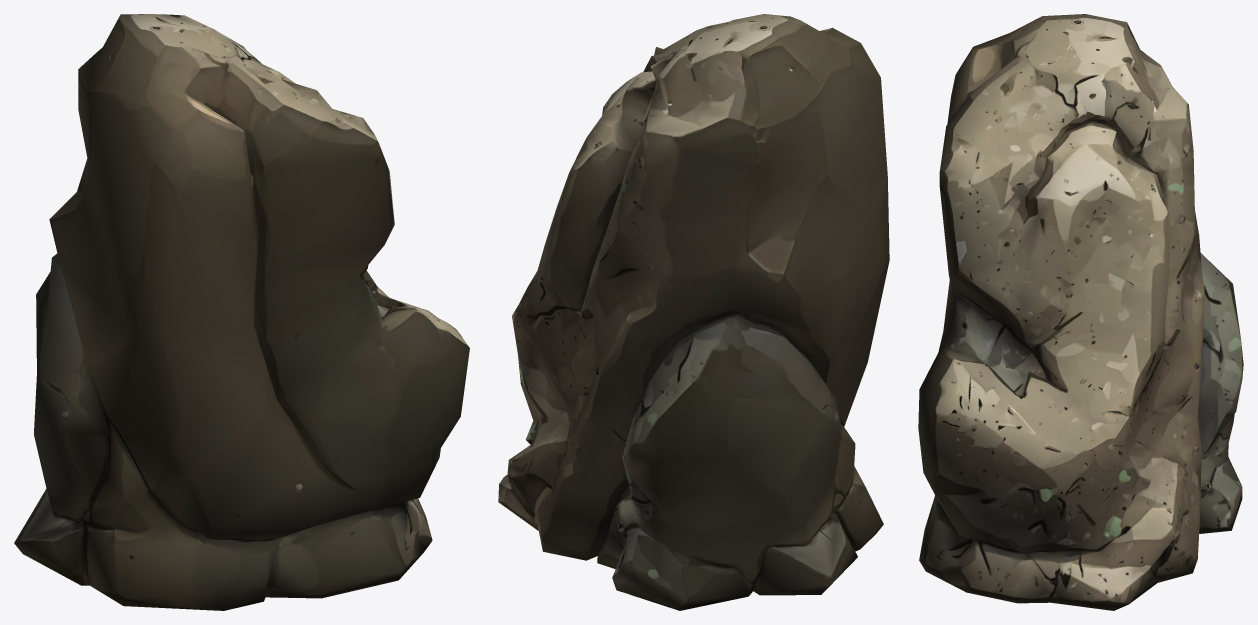
The model's file is seal-stone-studio-v31-retopo.glb.
3 renders of one model, left to right at view 1: azimuth 30°, elevation 25°; view 2: azimuth 150°, elevation 25°; view 3: azimuth 270°, elevation 25°, orthographic. The views are drawn at different scales.
Visible parts, largest first — view 1: tripo_node_54887ef5-f0e1-4de7-a42e-c85a362f5482; view 2: tripo_node_54887ef5-f0e1-4de7-a42e-c85a362f5482; view 3: tripo_node_54887ef5-f0e1-4de7-a42e-c85a362f5482.
Boxes of the visible parts, x1=… form: tripo_node_54887ef5-f0e1-4de7-a42e-c85a362f5482: x1=14, y1=14, x2=469, y2=610; tripo_node_54887ef5-f0e1-4de7-a42e-c85a362f5482: x1=498, y1=14, x2=889, y2=610; tripo_node_54887ef5-f0e1-4de7-a42e-c85a362f5482: x1=918, y1=14, x2=1243, y2=610.
Size of the model in its own units: 0.7195 by 0.9786 by 0.6007.
1 material, 1 textured.
